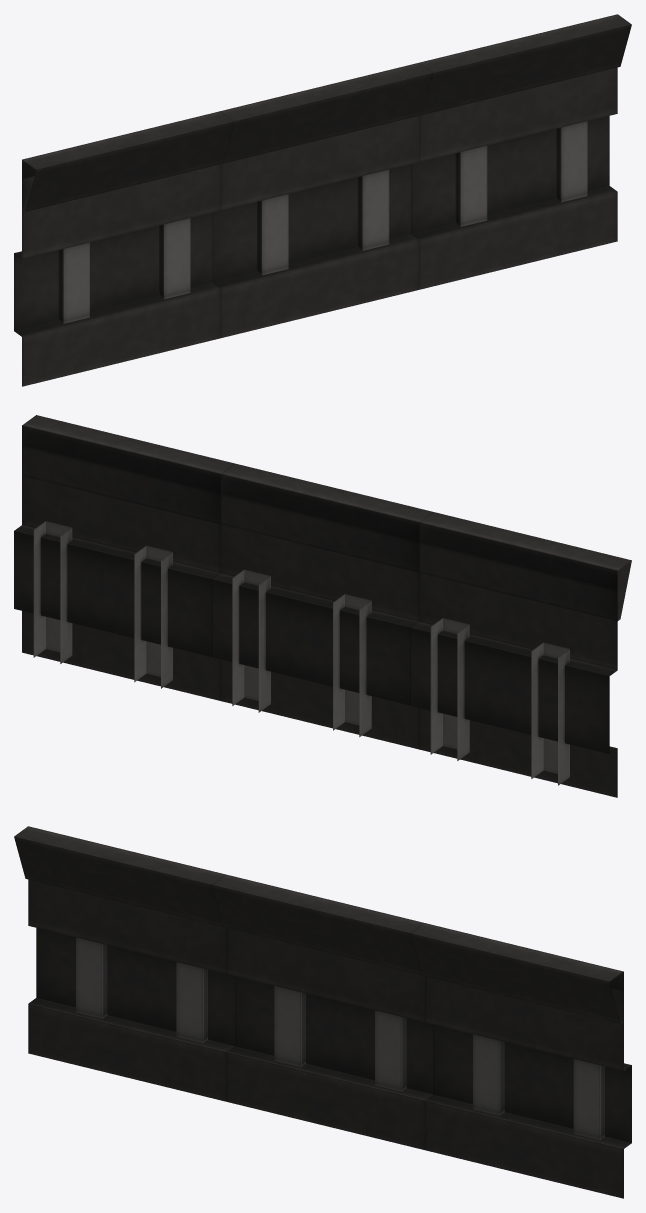
Rendered from B11_RoofMiddle3x.FBX.
3 renders of one model, top to bottom at view 1: azimuth 30°, elevation 25°; view 2: azimuth 150°, elevation 25°; view 3: azimuth 330°, elevation 25°, orthographic.
Parts seen in each view (by area): view 1: B11_RoofMiddle3x; view 2: B11_RoofMiddle3x; view 3: B11_RoofMiddle3x.
Part boxes in pixels (box(x1,y1,x2,y2)): B11_RoofMiddle3x: box(14, 14, 631, 386); B11_RoofMiddle3x: box(14, 415, 631, 797); B11_RoofMiddle3x: box(14, 826, 631, 1198).
Size of the model in its own units: 12 by 4.37 by 1.03.
